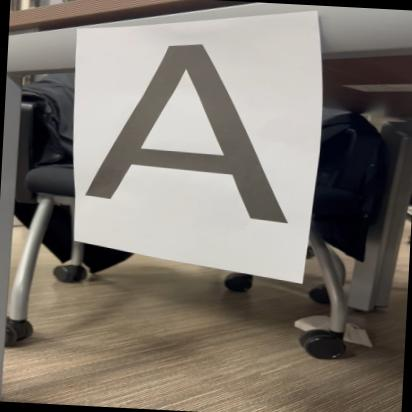seat: (76, 36, 313, 229)
